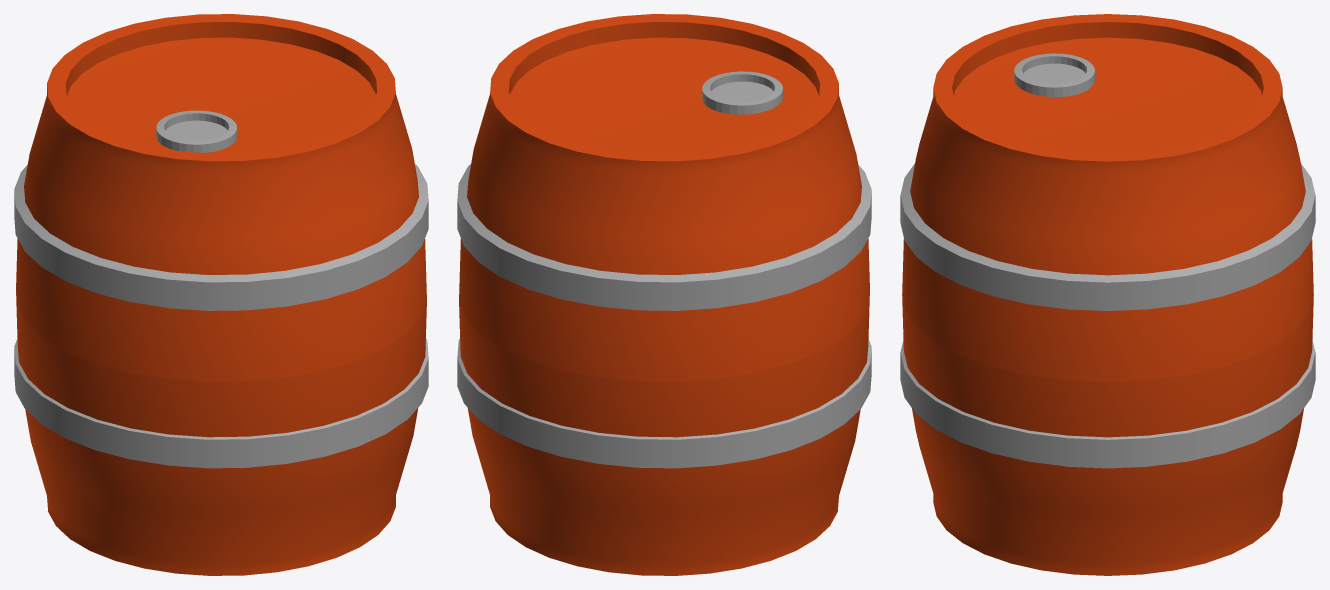
Rendered from Barrel.glb.
3 renders of one model, left to right at view 1: azimuth 30°, elevation 25°; view 2: azimuth 150°, elevation 25°; view 3: azimuth 270°, elevation 25°, orthographic.
Visible parts, largest first — view 1: Circle, Circle.001, Circle.002, Circle.003; view 2: Circle, Circle.001, Circle.002, Circle.003; view 3: Circle, Circle.001, Circle.002, Circle.003.
Boxes of the visible parts, x1,y1,x2,y2 form: Circle: (16, 14, 426, 575); Circle.001: (14, 164, 428, 310); Circle.002: (14, 339, 428, 468); Circle.003: (156, 110, 236, 152); Circle: (459, 14, 869, 575); Circle.001: (457, 164, 871, 310); Circle.002: (457, 339, 871, 468); Circle.003: (702, 71, 782, 114); Circle: (902, 14, 1313, 575); Circle.001: (900, 163, 1315, 310); Circle.002: (900, 340, 1315, 468); Circle.003: (1014, 53, 1094, 97).
Size of the model in its own units: 1.77 by 1.95 by 1.77.
